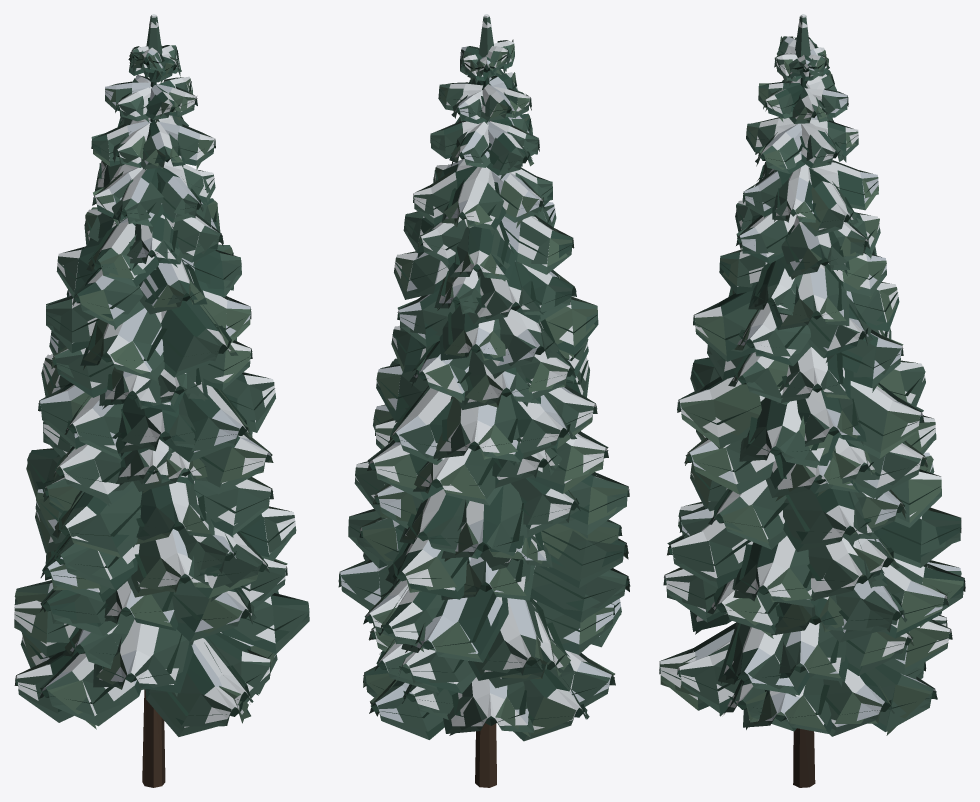
The model's file is pine-snow.glb.
3 renders of one model, left to right at view 1: azimuth 30°, elevation 25°; view 2: azimuth 150°, elevation 25°; view 3: azimuth 270°, elevation 25°, orthographic.
Parts seen in each view (by area): view 1: pine-snow-needles, pine-snow; view 2: pine-snow-needles, pine-snow; view 3: pine-snow-needles, pine-snow.
Part boxes in pixels (x1,y1,x2,y2): pine-snow-needles: (14, 45, 309, 736); pine-snow: (142, 14, 165, 787); pine-snow-needles: (338, 39, 630, 741); pine-snow: (475, 14, 496, 787); pine-snow-needles: (659, 36, 965, 736); pine-snow: (793, 14, 815, 787).
Bounding box in the file's own units: 3.37 × 9.72 × 3.51.
